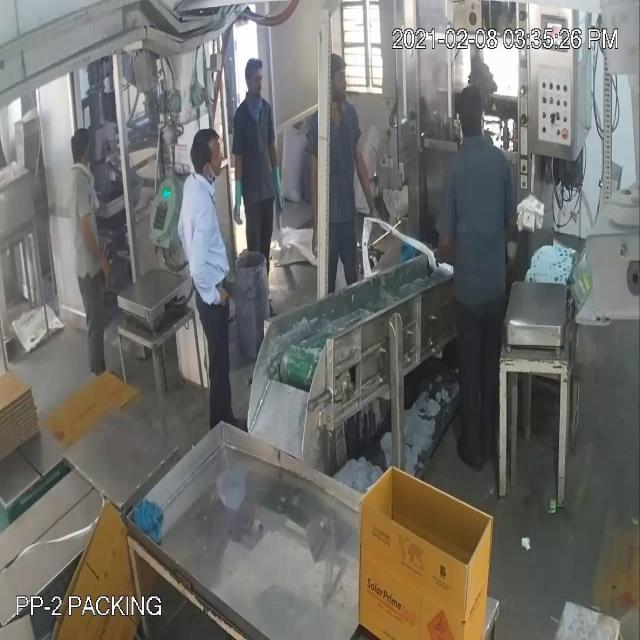Gloves: (26, 49, 442, 266)
